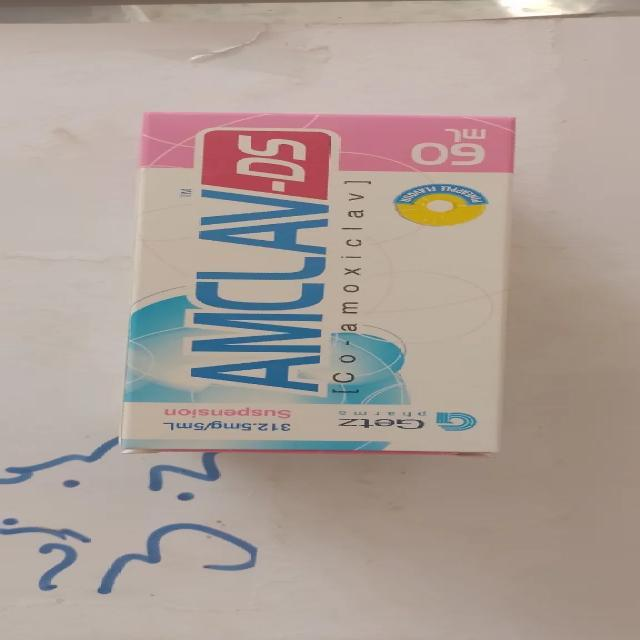drug-name: (192, 129, 333, 396)
